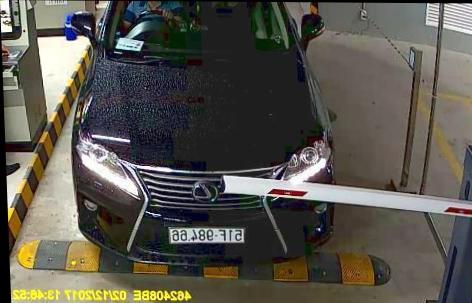License_Plate: (162, 220, 247, 250)
